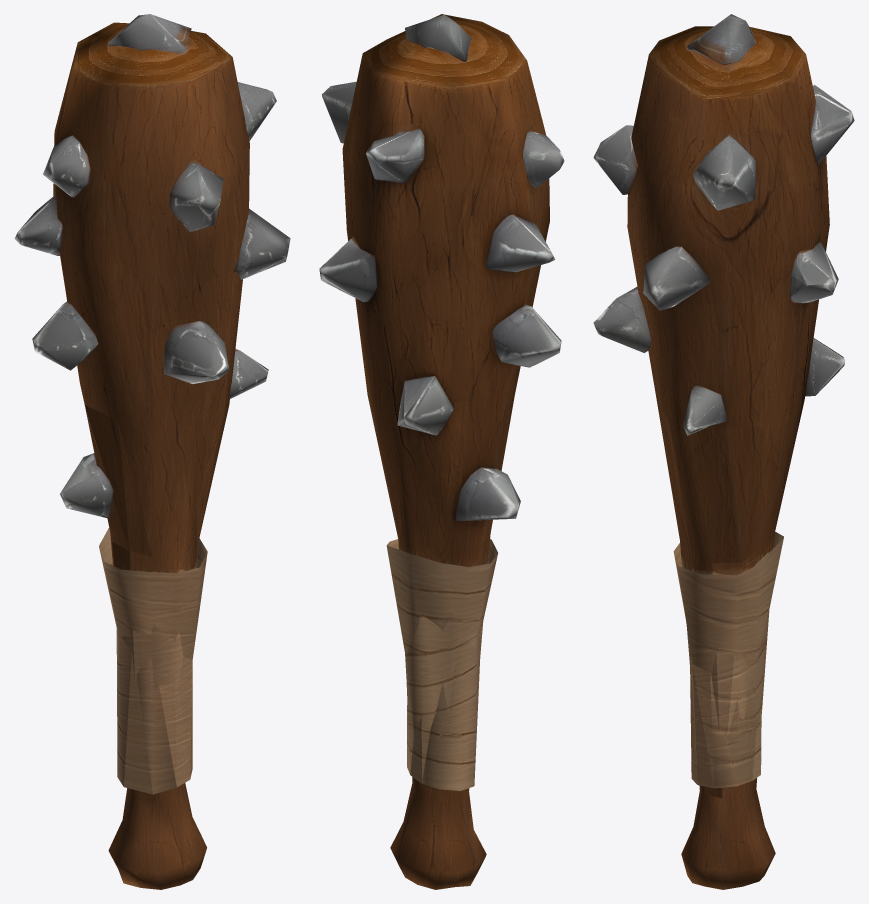
The model's file is Bat.fbx.
3 views of the same model, side by side, from view 1: azimuth 30°, elevation 25°; view 2: azimuth 150°, elevation 25°; view 3: azimuth 270°, elevation 25° (orthographic).
Visible parts, largest first — view 1: mesh_node; view 2: mesh_node; view 3: mesh_node.
Boxes of the visible parts, x1=… form: mesh_node: x1=14, y1=14, x2=290, y2=889; mesh_node: x1=319, y1=14, x2=564, y2=889; mesh_node: x1=593, y1=14, x2=854, y2=889.
Bounding box in the file's own units: 29.1 × 100 × 27.34.
Materials: 1 (1 with a texture image).
